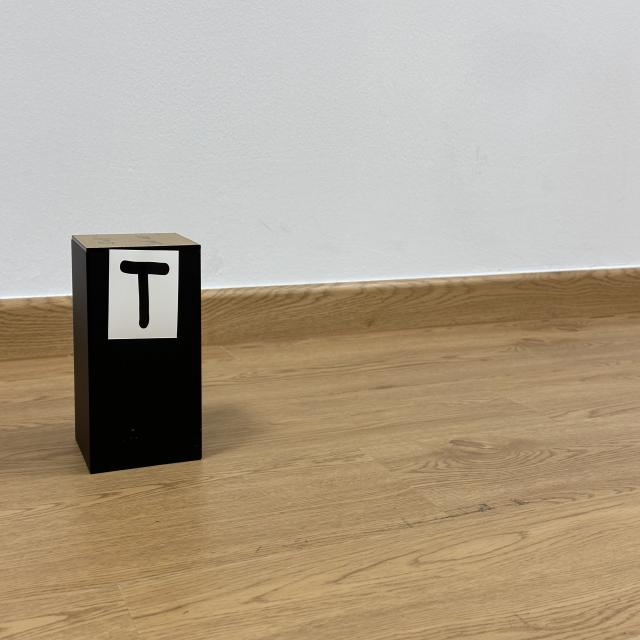T: (120, 260, 169, 328)
